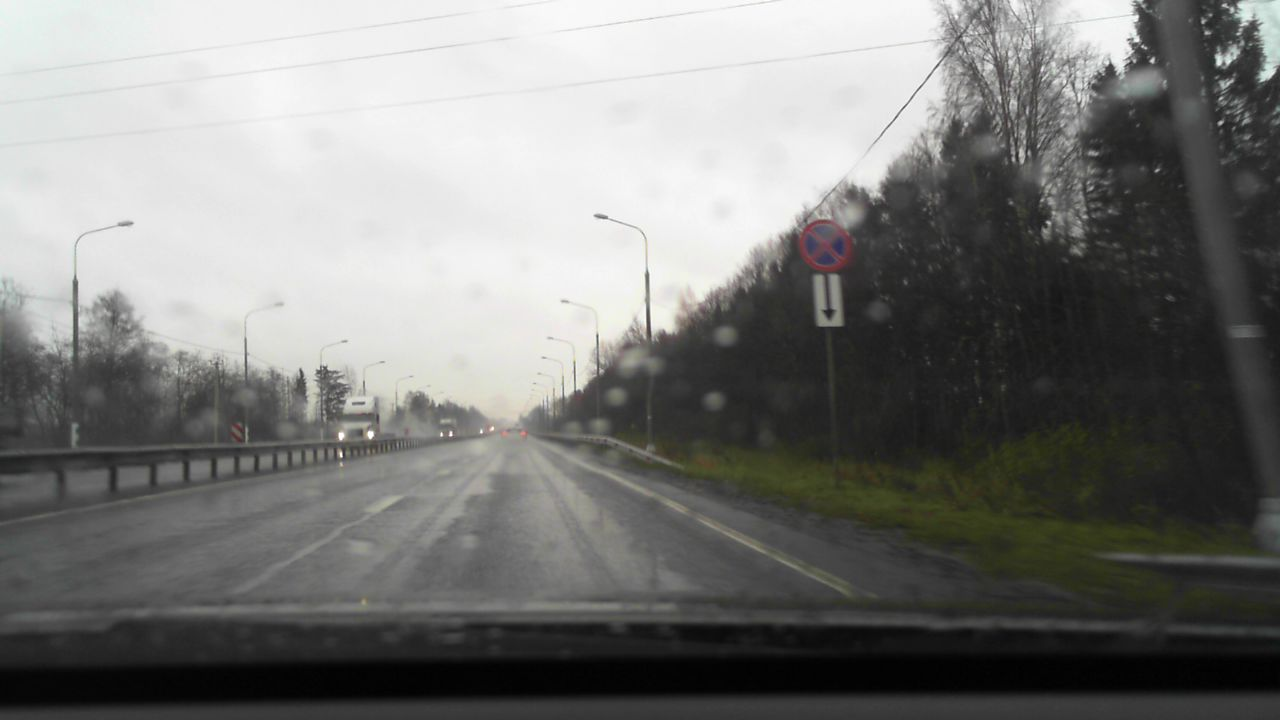No Parking: (798, 219, 852, 272)
